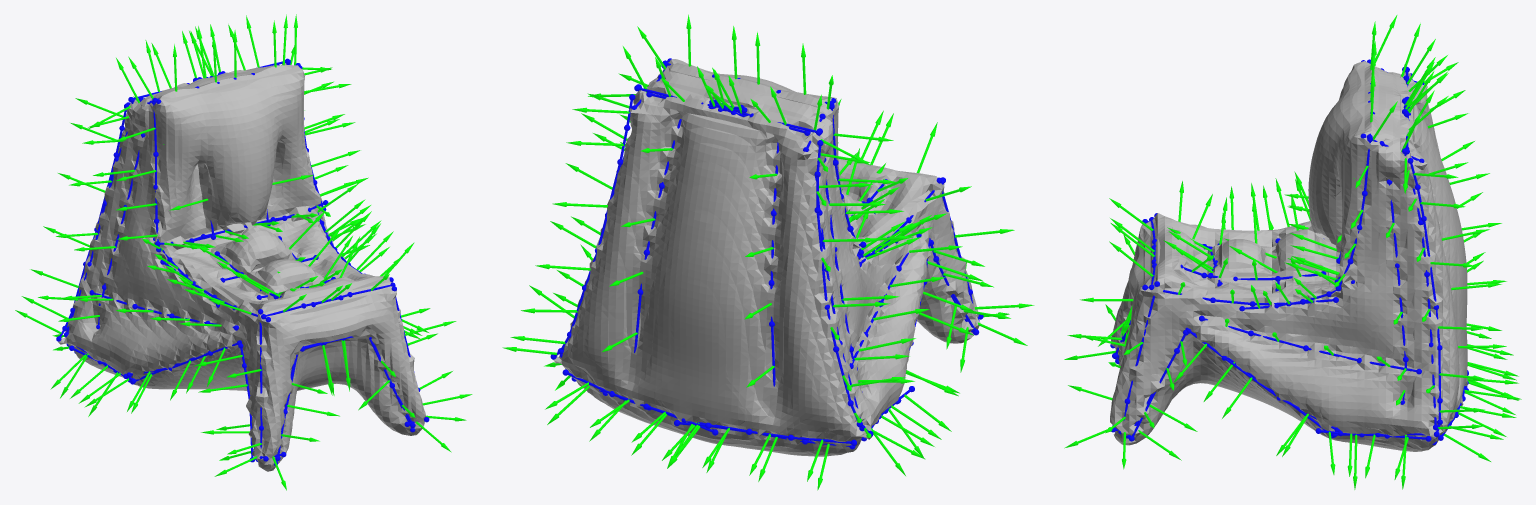
File: author1_chair_ff.gltf
3 views of the same model, side by side, from view 1: azimuth 30°, elevation 25°; view 2: azimuth 150°, elevation 25°; view 3: azimuth 270°, elevation 25° (orthographic). The views are drawn at different scales.
Bounding box in the file's own units: 0.6929 × 0.6905 × 0.7792.
